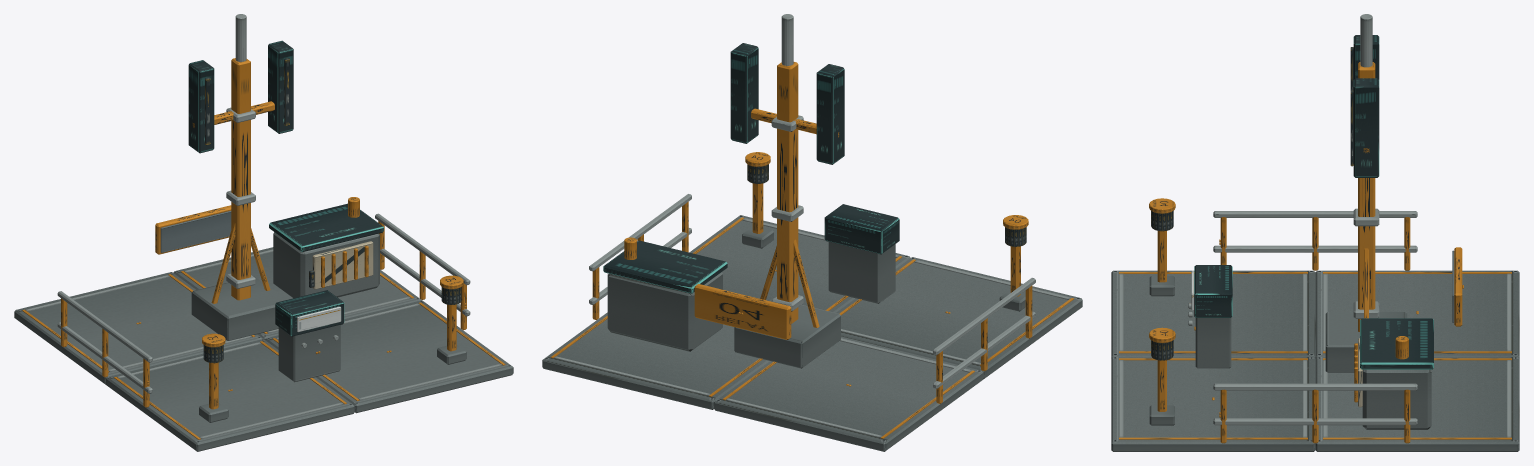
File: RelayPlatform_LOD0.obj
3 renders of one model, left to right at view 1: azimuth 30°, elevation 25°; view 2: azimuth 150°, elevation 25°; view 3: azimuth 270°, elevation 25°, orthographic. The views are drawn at different scales.
Visible parts, largest first — view 1: 004_relay_mast, 000_floor_4m.016, 002_floor_4m.008, 001_floor_4m.008, 006_generator, 005_console, 003_floor_4m.004, 009_sign_relay, 007_railing_4m, 008_railing_4m, 010_beacon, 011_beacon; view 2: 001_floor_4m.008, 004_relay_mast, 000_floor_4m.016, 003_floor_4m.004, 006_generator, 002_floor_4m.008, 005_console, 009_sign_relay, 007_railing_4m, 008_railing_4m, 011_beacon, 010_beacon; view 3: 002_floor_4m.008, 000_floor_4m.016, 003_floor_4m.004, 001_floor_4m.008, 004_relay_mast, 006_generator, 008_railing_4m, 005_console, 007_railing_4m, 010_beacon, 011_beacon, 009_sign_relay.
Part boxes in pixels (left/top/right/bottom): 004_relay_mast: left=188, top=14, right=293, bottom=340; 000_floor_4m.016: left=106, top=339, right=354, bottom=451; 002_floor_4m.008: left=265, top=300, right=513, bottom=413; 001_floor_4m.008: left=14, top=272, right=262, bottom=384; 006_generator: left=269, top=197, right=383, bottom=298; 005_console: left=275, top=290, right=344, bottom=382; 003_floor_4m.004: left=173, top=247, right=421, bottom=339; 009_sign_relay: left=155, top=205, right=231, bottom=254; 007_railing_4m: left=57, top=291, right=152, bottom=407; 008_railing_4m: left=375, top=213, right=470, bottom=330; 010_beacon: left=199, top=333, right=228, bottom=422; 011_beacon: left=437, top=275, right=466, bottom=364; 001_floor_4m.008: left=714, top=336, right=983, bottom=451; 004_relay_mast: left=730, top=14, right=844, bottom=368; 000_floor_4m.016: left=836, top=257, right=1082, bottom=379; 003_floor_4m.004: left=542, top=312, right=769, bottom=409; 006_generator: left=603, top=237, right=727, bottom=351; 002_floor_4m.008: left=689, top=215, right=910, bottom=312; 005_console: left=824, top=204, right=899, bottom=303; 009_sign_relay: left=694, top=284, right=791, bottom=339; 007_railing_4m: left=933, top=277, right=1035, bottom=403; 008_railing_4m: left=589, top=194, right=691, bottom=319; 011_beacon: left=742, top=152, right=773, bottom=248; 010_beacon: left=999, top=215, right=1028, bottom=311; 002_floor_4m.008: left=1111, top=357, right=1315, bottom=451; 000_floor_4m.016: left=1111, top=270, right=1315, bottom=358; 003_floor_4m.004: left=1315, top=357, right=1519, bottom=451; 001_floor_4m.008: left=1315, top=270, right=1519, bottom=358; 004_relay_mast: left=1325, top=14, right=1407, bottom=372; 006_generator: left=1354, top=318, right=1433, bottom=429; 008_railing_4m: left=1213, top=383, right=1417, bottom=443; 005_console: left=1188, top=265, right=1232, bottom=368; 007_railing_4m: left=1213, top=211, right=1417, bottom=270; 010_beacon: left=1149, top=198, right=1175, bottom=296; 011_beacon: left=1149, top=327, right=1175, bottom=425; 009_sign_relay: left=1452, top=247, right=1463, bottom=326.
Bounding box in the file's own units: 8.12 × 7.57 × 8.
1 material, 1 textured.
